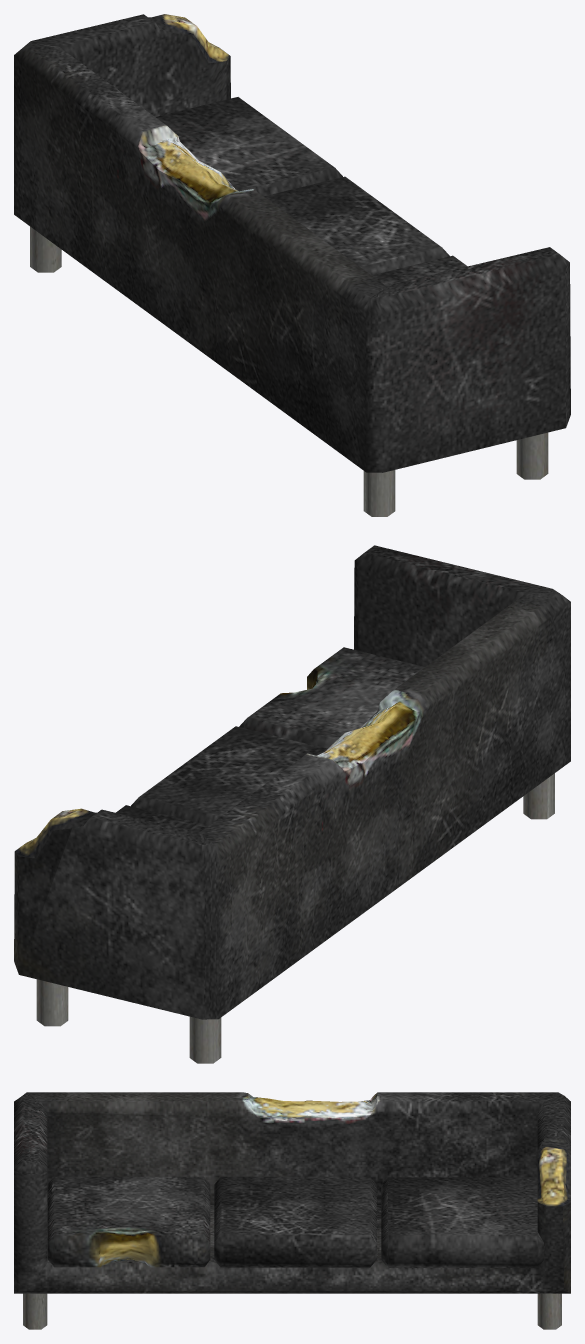
The model's file is M_Home_Garden_Couch08.fbx.
3 views of the same model, one above another, from view 1: azimuth 30°, elevation 25°; view 2: azimuth 150°, elevation 25°; view 3: azimuth 270°, elevation 25° (orthographic). The views are drawn at different scales.
Visible parts, largest first — view 1: M_Home_Garden_Couch08; view 2: M_Home_Garden_Couch08; view 3: M_Home_Garden_Couch08.
Boxes of the visible parts, x1,y1,x2,y2 form: M_Home_Garden_Couch08: (14,14,570,516); M_Home_Garden_Couch08: (14,545,570,1063); M_Home_Garden_Couch08: (14,1092,570,1329).
Size of the model in its own units: 94.97 by 93.1 by 277.
